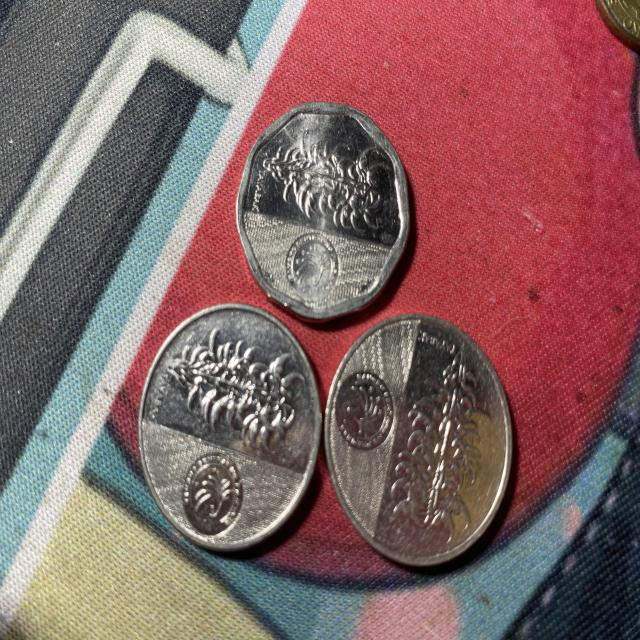5_New_Back: (394, 356, 486, 553), (175, 338, 289, 444), (270, 127, 378, 221)
